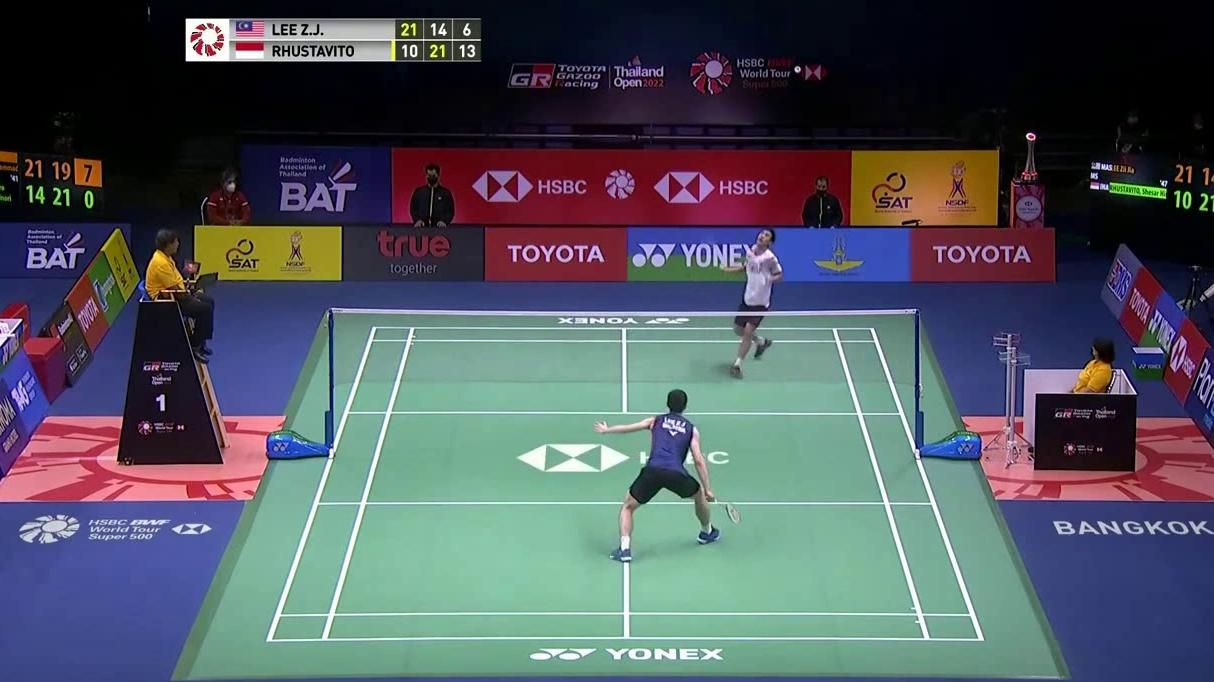racket: (699, 235, 730, 274), (708, 493, 742, 525)
shuttle: (793, 65, 802, 75)
